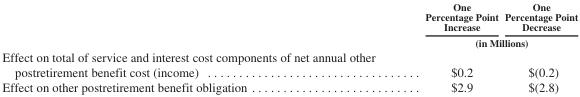table: (1, 0, 577, 93)
table column: (1, 0, 399, 93), (399, 0, 500, 93), (500, 0, 577, 93)
table column header: (1, 0, 577, 48)
table row: (1, 0, 577, 34), (1, 48, 577, 79), (1, 34, 577, 48), (1, 79, 577, 93)
table spanning cell: (399, 34, 577, 48)
